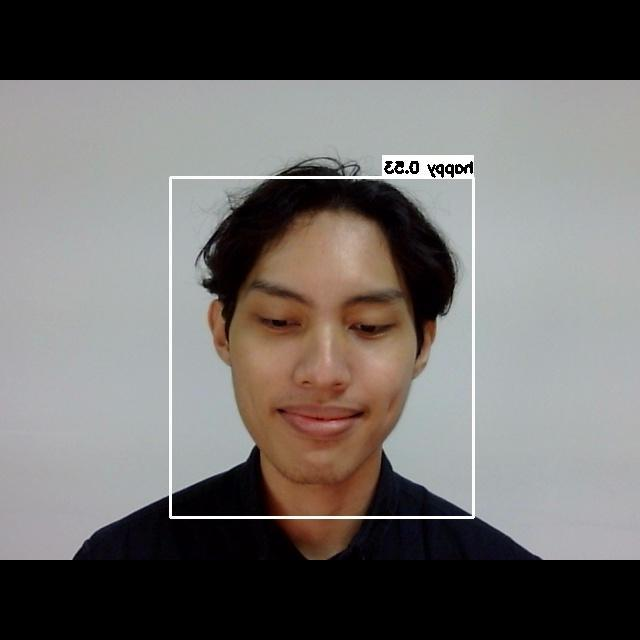Happy: (223, 254, 439, 458)
